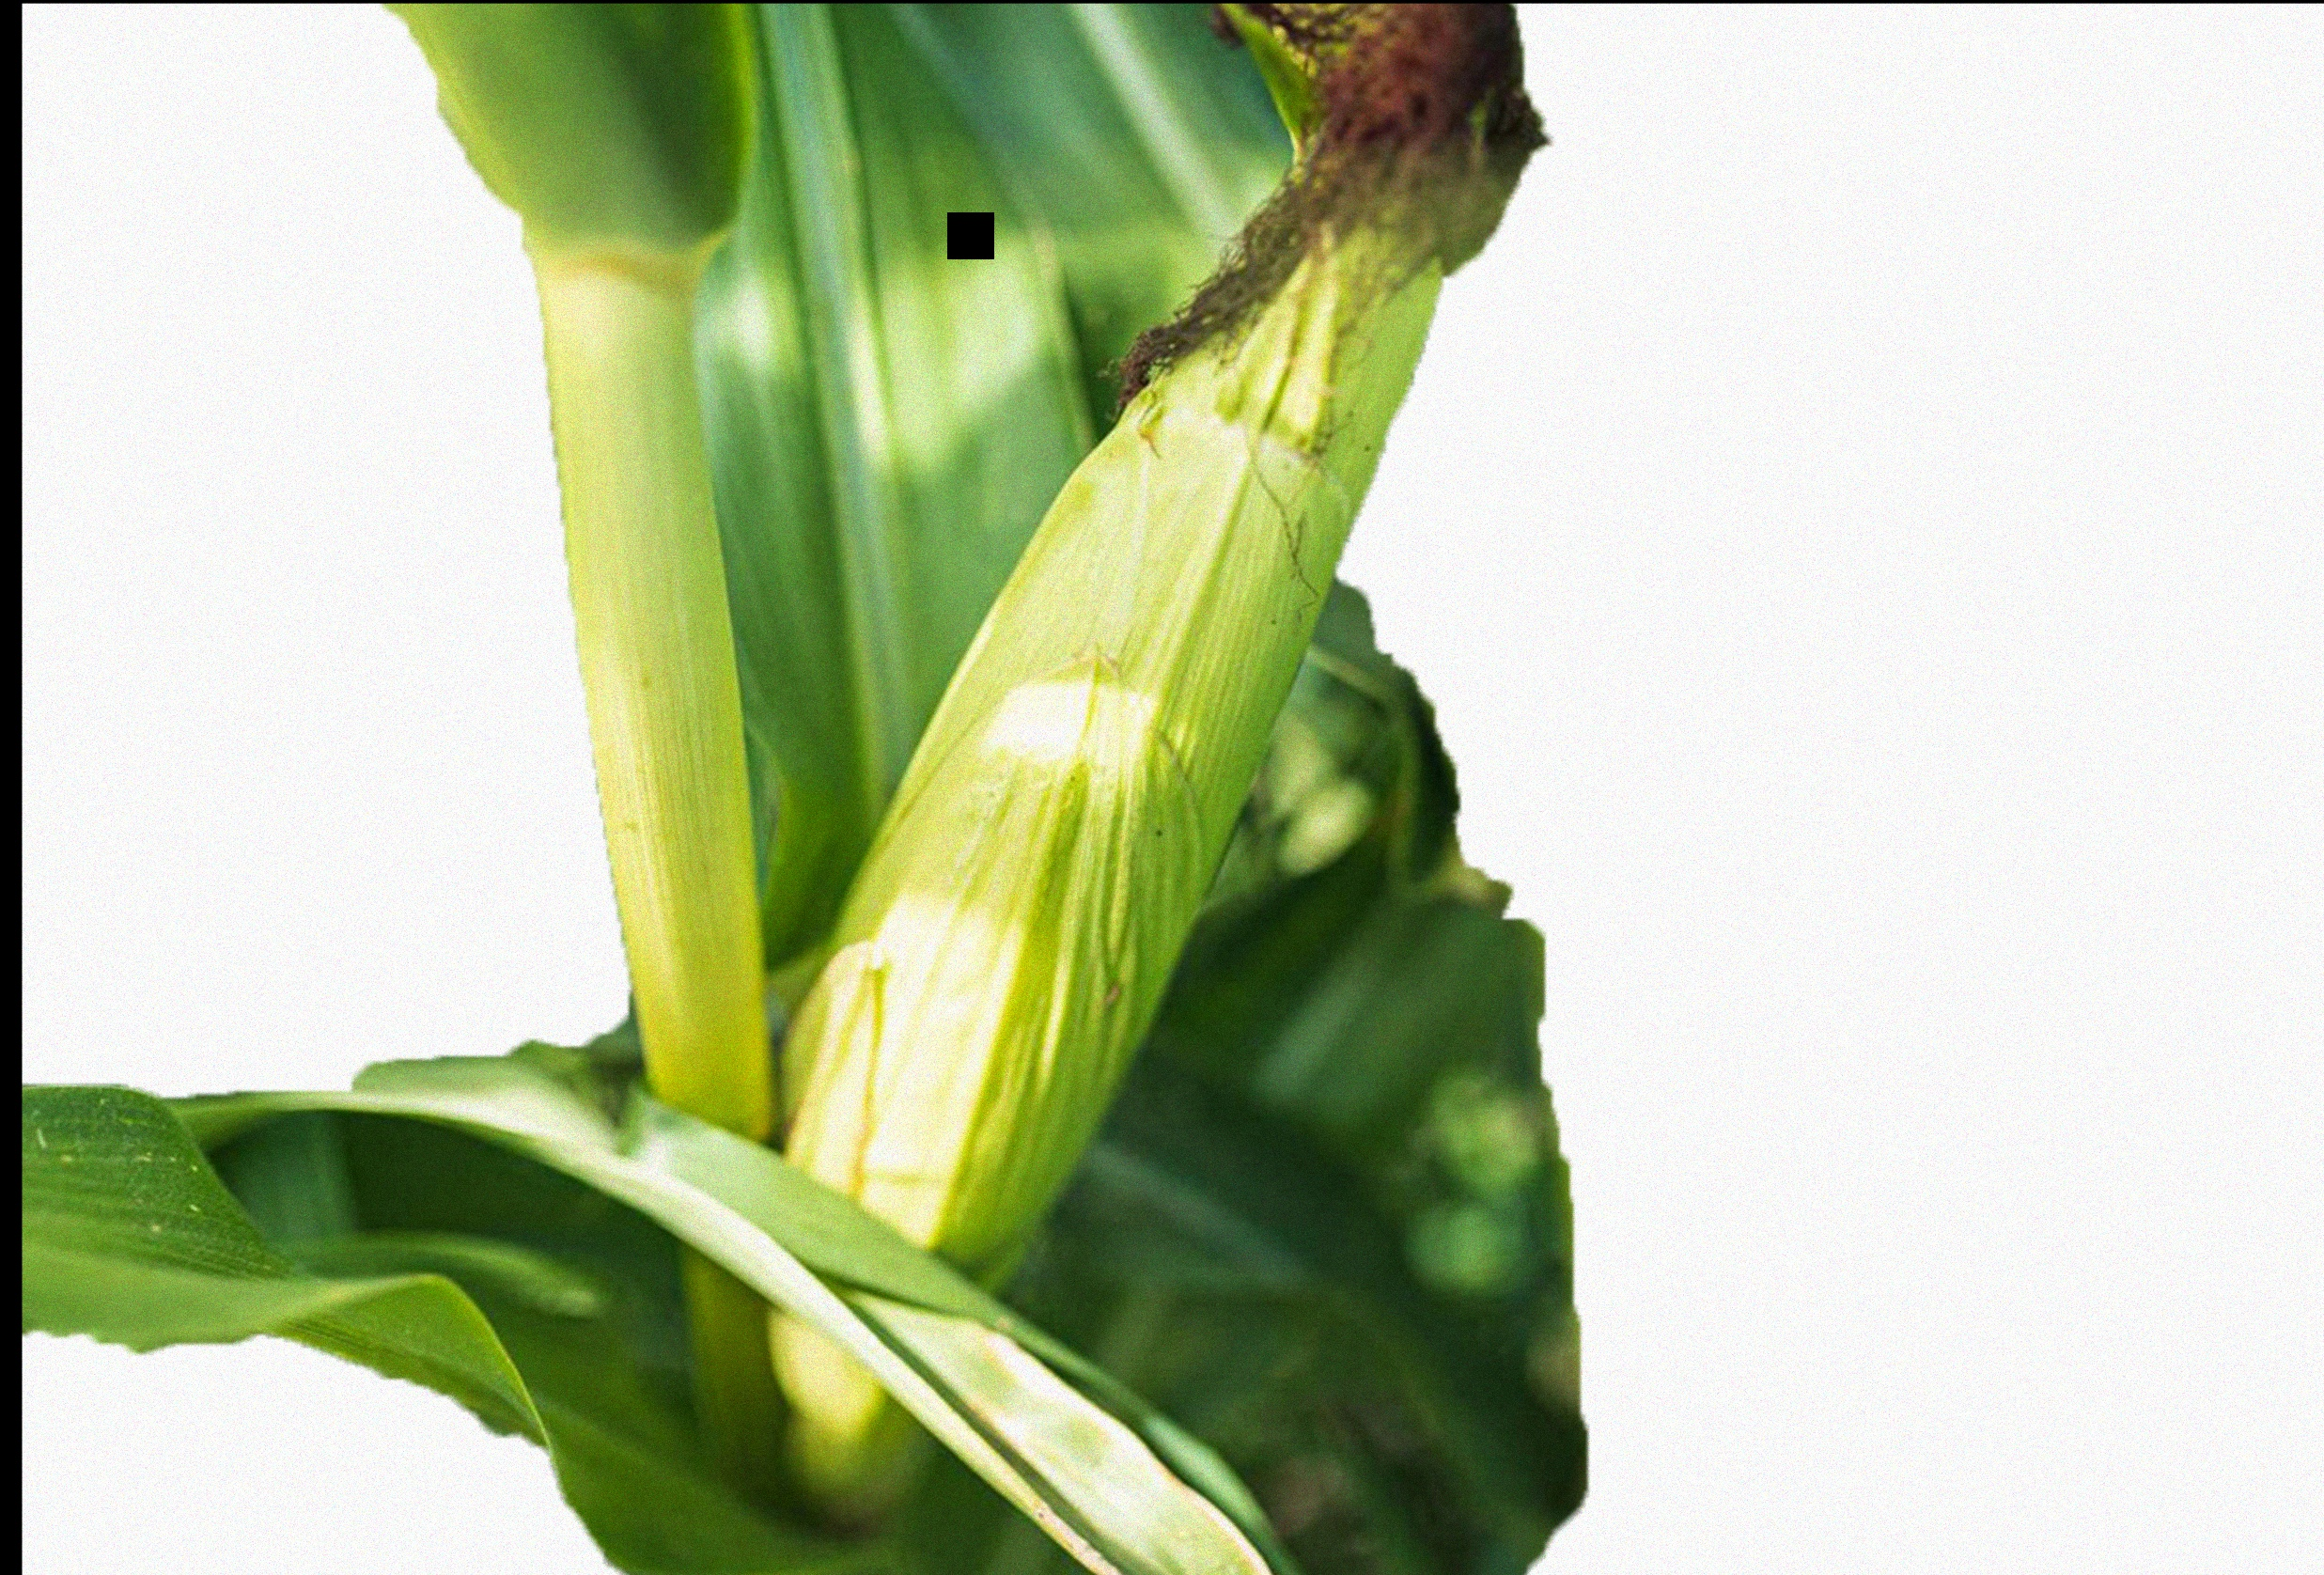corn_plant: (612, 30, 1510, 1471)
